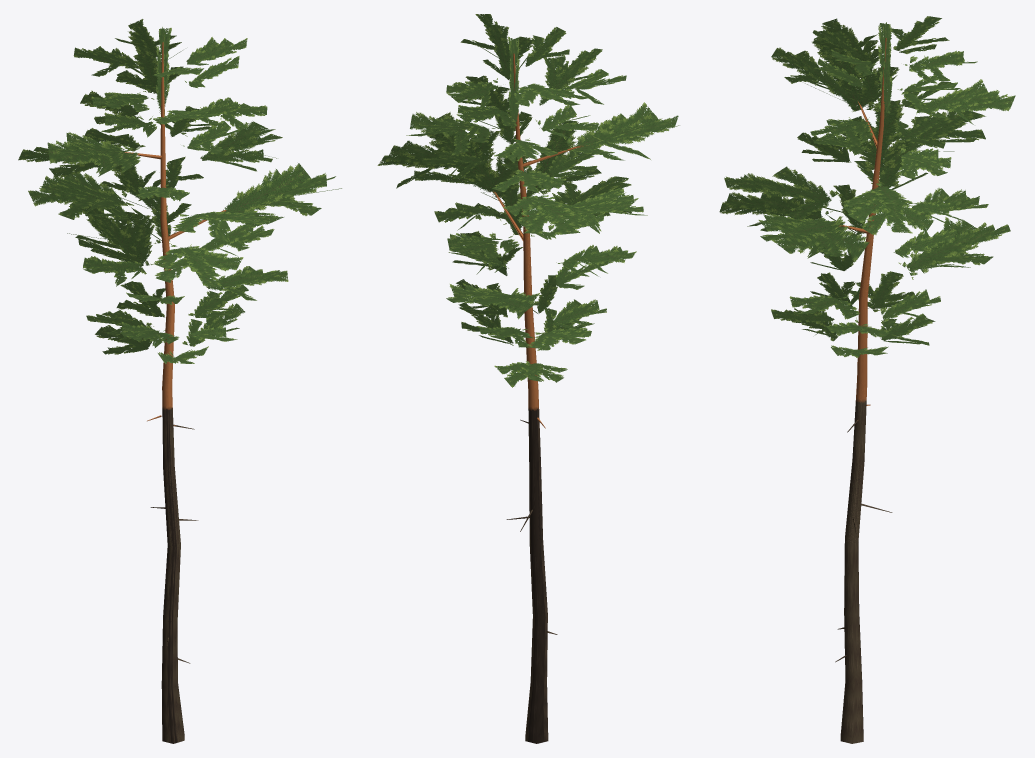
Rendered from near.glb.
3 views of the same model, side by side, from view 1: azimuth 30°, elevation 25°; view 2: azimuth 150°, elevation 25°; view 3: azimuth 270°, elevation 25° (orthographic). The views are drawn at different scales.
Parts seen in each view (by area): view 1: pine_03; view 2: pine_03; view 3: pine_03.
Boxes of the visible parts, box(x1,y1,x2,y2) form: pine_03: box(18, 19, 341, 743); pine_03: box(377, 14, 679, 743); pine_03: box(719, 16, 1015, 743).
Bounding box in the file's own units: 6.56 × 15.33 × 5.9.
2 materials, 2 textured.
